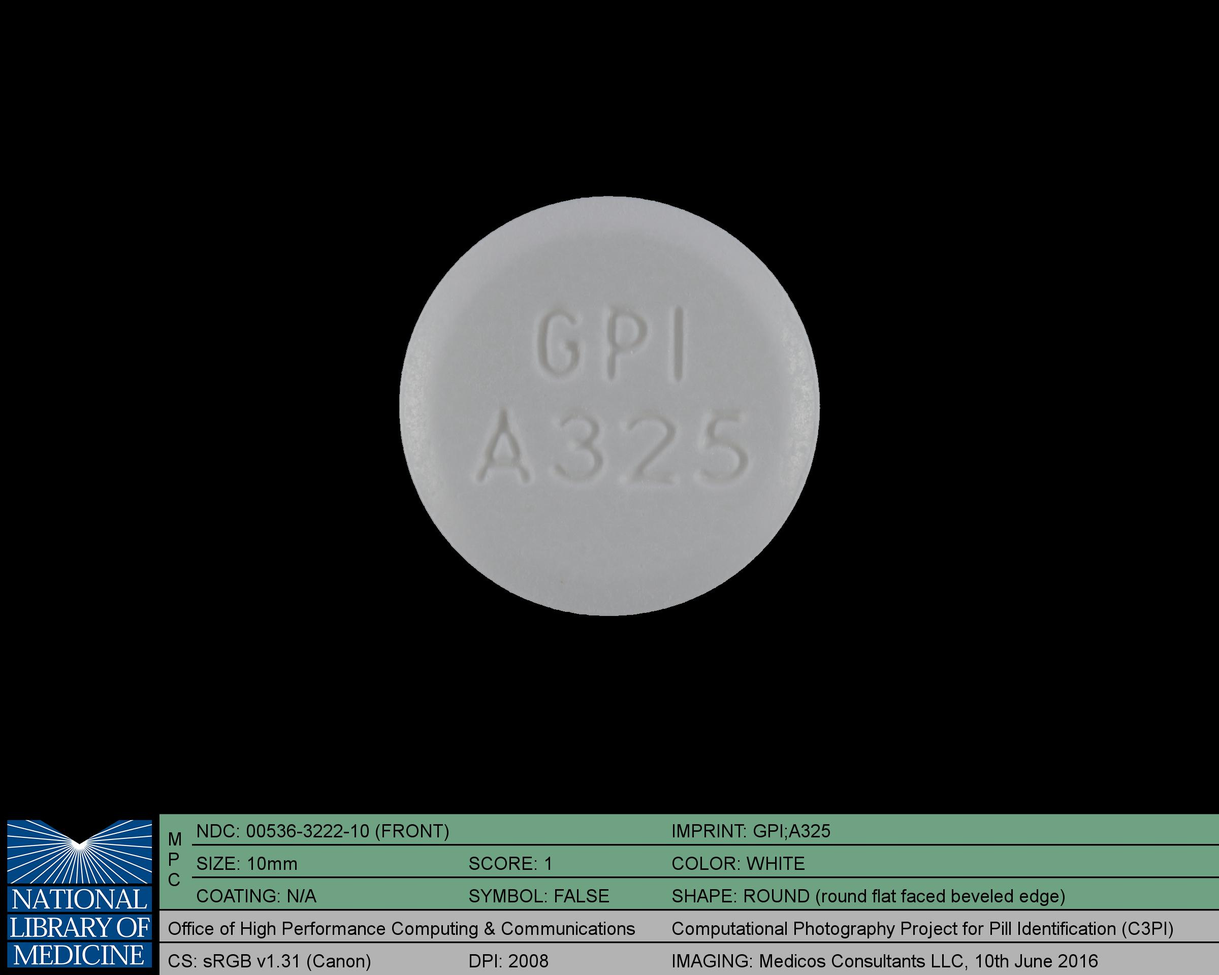Pill: (384, 183, 835, 628)
